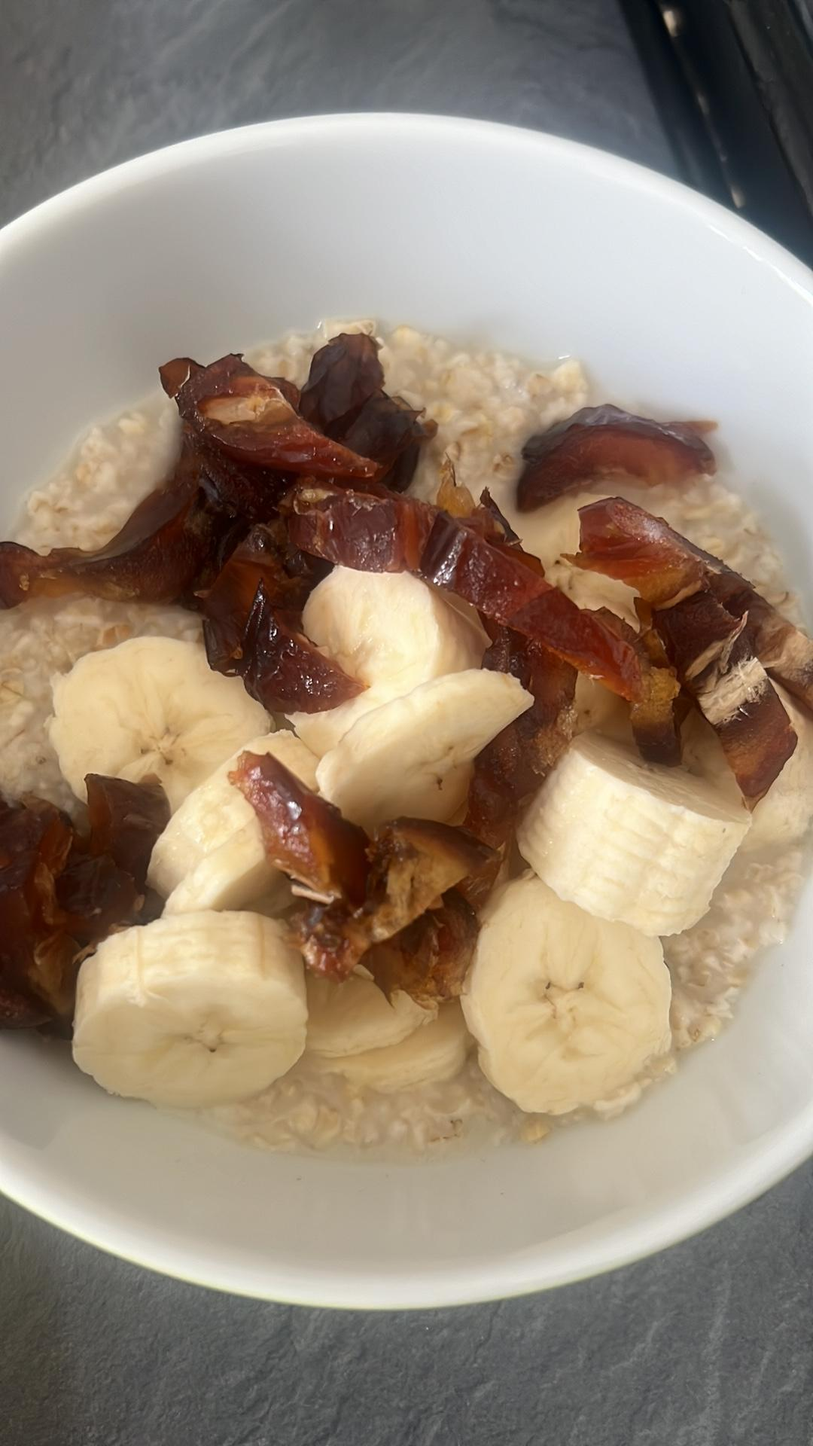banana: (459, 872, 684, 1104), (520, 736, 747, 937), (74, 927, 310, 1109), (55, 638, 269, 805), (297, 569, 477, 746), (318, 665, 528, 816), (148, 724, 312, 906), (291, 1008, 467, 1080), (300, 980, 445, 1037)
